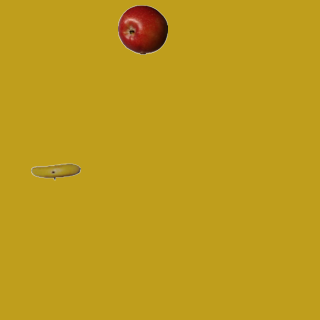Apple Braeburn: (117, 4, 167, 54)
Banana: (30, 146, 80, 196)
